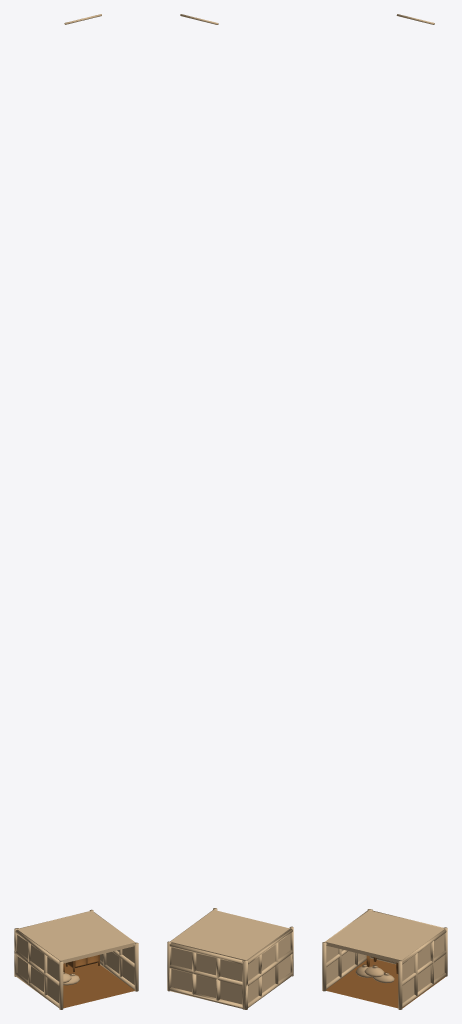
File: Level1.glb
3 views of the same model, side by side, from view 1: azimuth 30°, elevation 25°; view 2: azimuth 150°, elevation 25°; view 3: azimuth 330°, elevation 25° (orthographic).
Visible parts, largest first — view 1: bangunan; view 2: bangunan; view 3: bangunan.
Part boxes in pixels (left/top/right/bottom): bangunan: left=14, top=14, right=138, bottom=1009; bangunan: left=167, top=14, right=293, bottom=1009; bangunan: left=322, top=14, right=447, bottom=1009.
Bounding box in the file's own units: 8.06 × 92.46 × 8.29.
